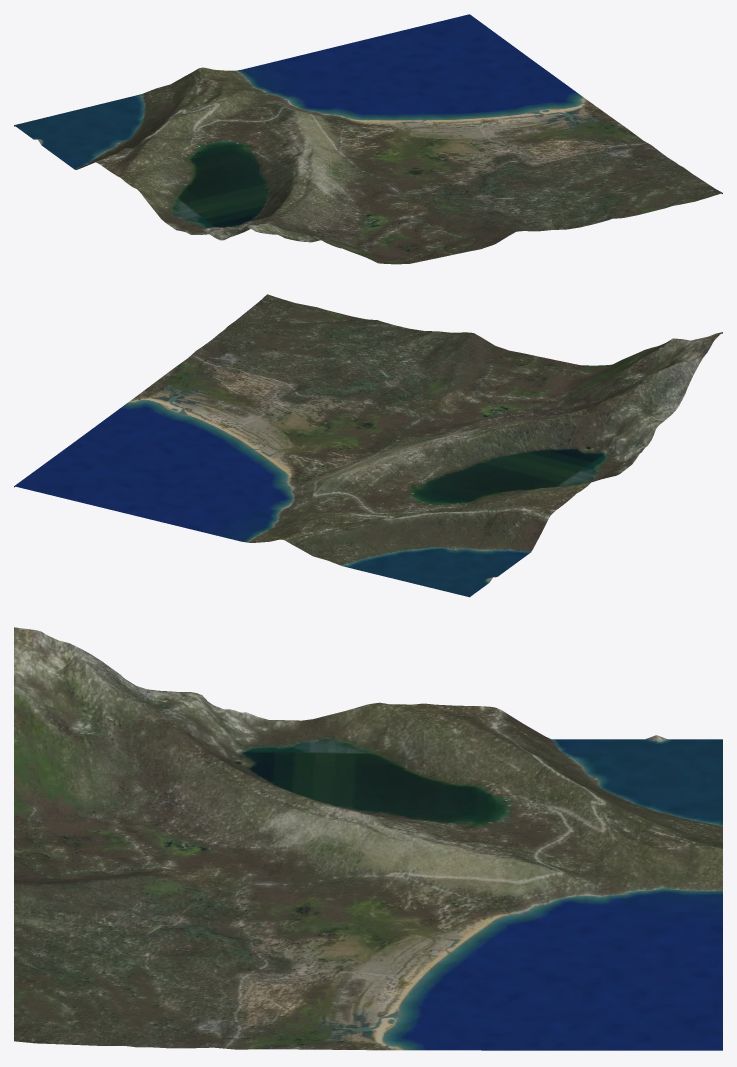
The picture shows the model from 3 angles, top to bottom: view 1: azimuth 30°, elevation 25°; view 2: azimuth 150°, elevation 25°; view 3: azimuth 270°, elevation 25°; orthographic projection. The views are drawn at different scales.
Bounding box in the file's own units: 4000 × 684 × 3850.
1 material, 1 textured.
